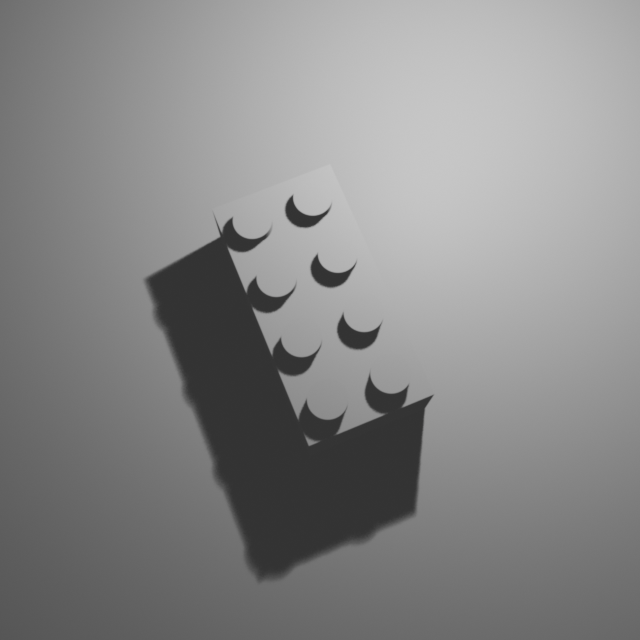lego_2x4: (210, 159, 436, 456)
